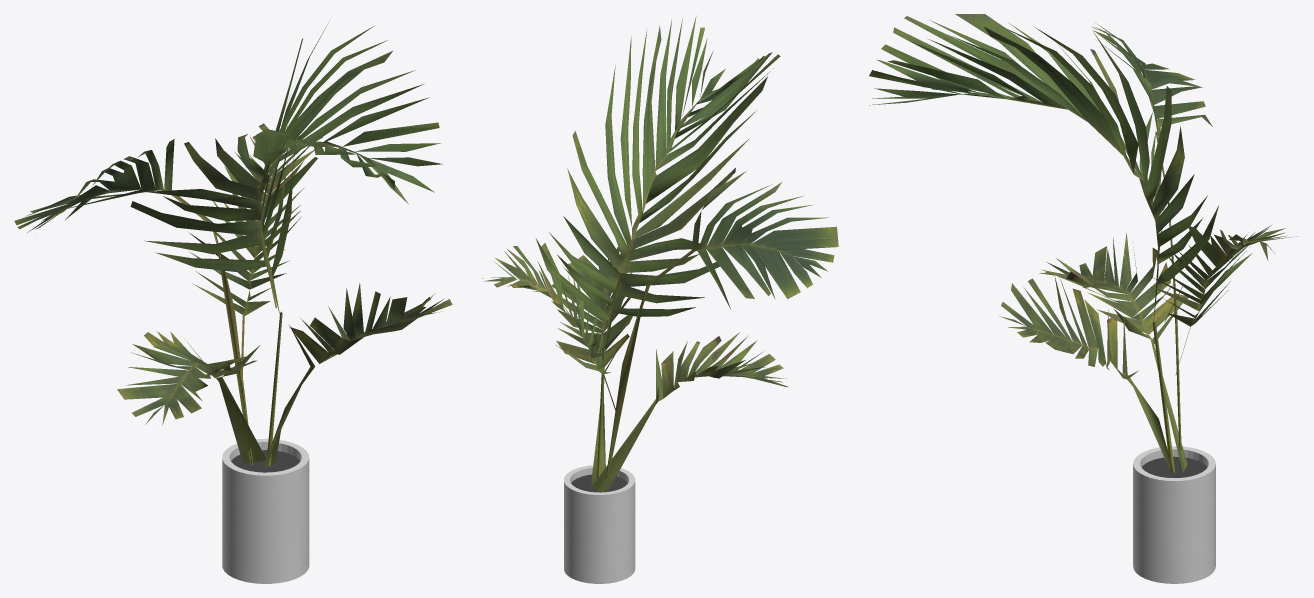
File: PottedPlant.fbx
The picture shows the model from 3 angles, left to right: view 1: azimuth 30°, elevation 25°; view 2: azimuth 150°, elevation 25°; view 3: azimuth 270°, elevation 25°; orthographic projection. The views are drawn at different scales.
Parts seen in each view (by area): view 1: propPottedPlant; view 2: propPottedPlant; view 3: propPottedPlant.
Part boxes in pixels (x1,y1,x2,y2): propPottedPlant: [14, 19, 452, 583]; propPottedPlant: [482, 15, 838, 583]; propPottedPlant: [869, 14, 1296, 583].
Size of the model in its own units: 117 by 176 by 124.
Materials: 3 (2 with a texture image).
